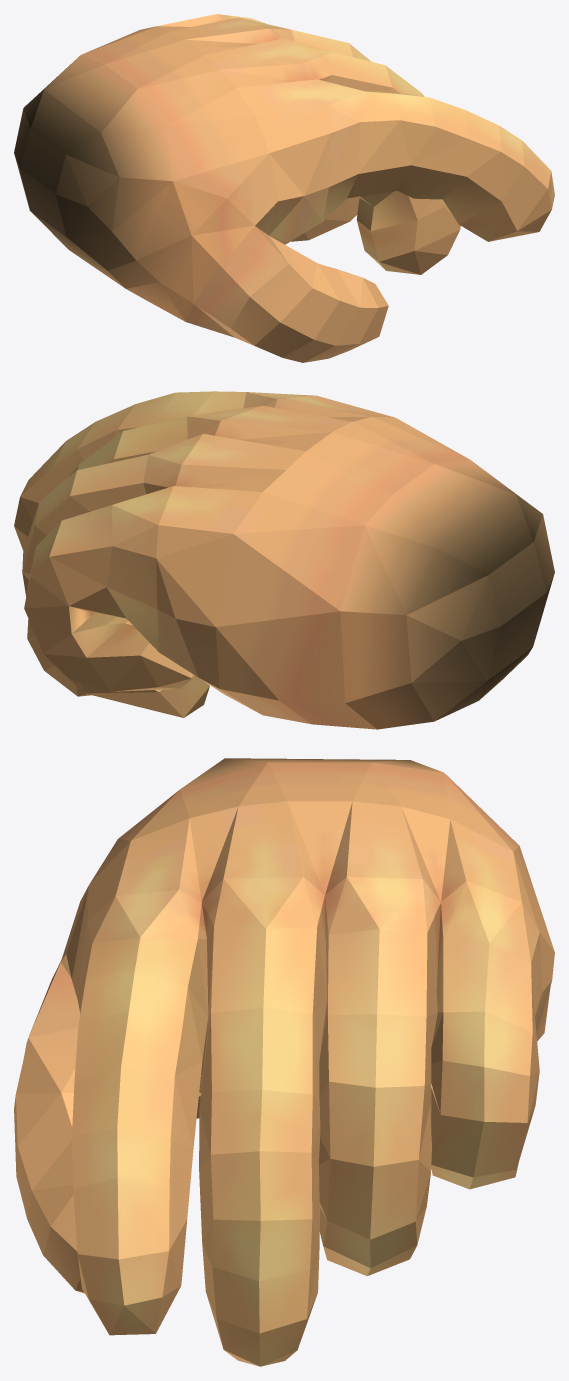
Rendered from left hand 1.obj.
The picture shows the model from 3 angles, top to bottom: view 1: azimuth 30°, elevation 25°; view 2: azimuth 150°, elevation 25°; view 3: azimuth 270°, elevation 25°; orthographic projection. The views are drawn at different scales.
Visible parts, largest first — view 1: n0b0; view 2: n0b0; view 3: n0b0.
Part boxes in pixels (<box>): n0b0: <box>14,14,554,362</box>; n0b0: <box>14,391,554,729</box>; n0b0: <box>14,758,554,1366</box>.
Bounding box in the file's own units: 7.47 × 4.29 × 4.87.
1 material, 1 textured.
